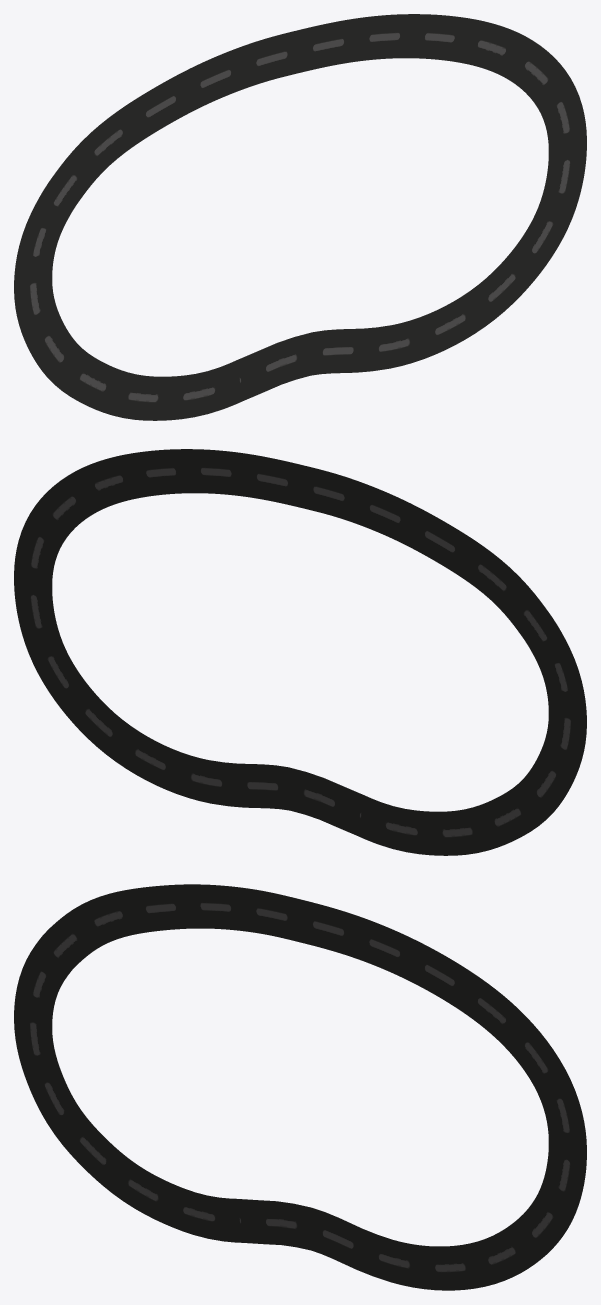
The model's file is path_01.fbx.
The picture shows the model from 3 angles, top to bottom: view 1: azimuth 30°, elevation 25°; view 2: azimuth 150°, elevation 25°; view 3: azimuth 330°, elevation 25°; orthographic projection.
Parts seen in each view (by area): view 1: path; view 2: path; view 3: path.
Part boxes in pixels (<box>): path: <box>14,14,586,420</box>; path: <box>14,449,586,855</box>; path: <box>14,884,586,1290</box>.
Size of the model in its own units: 8.58 by 5.18 by 4.17e-07.
